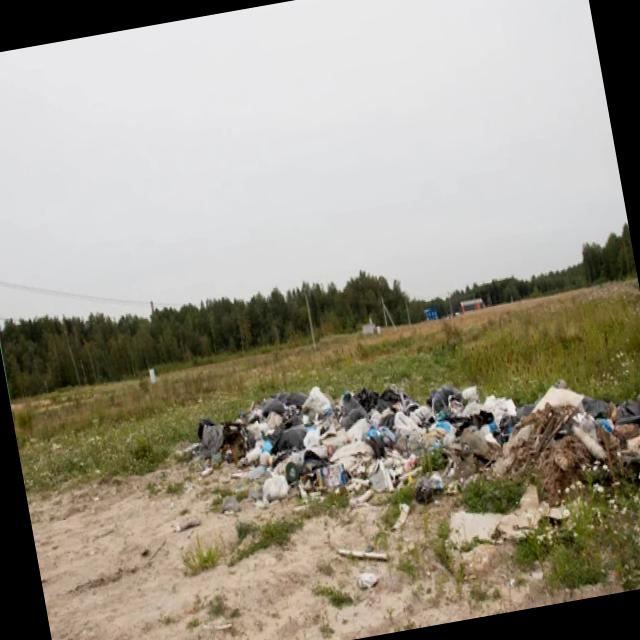garbage: (230, 315, 640, 553)
